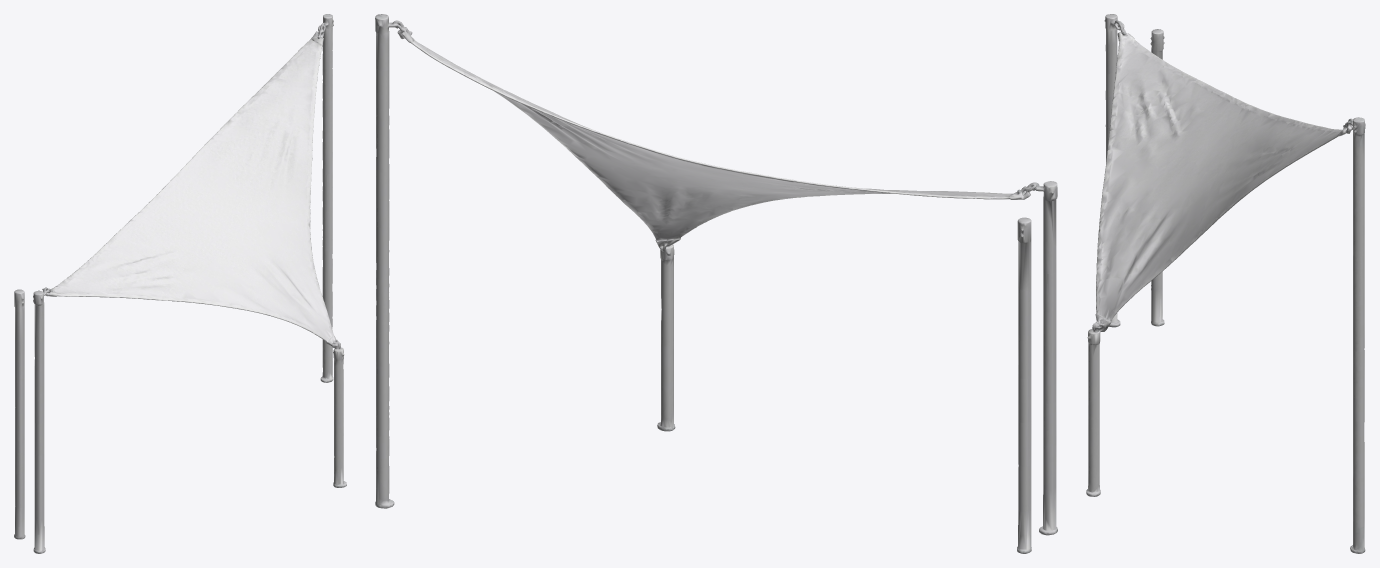
The model's file is sail1.glb.
3 renders of one model, left to right at view 1: azimuth 30°, elevation 25°; view 2: azimuth 150°, elevation 25°; view 3: azimuth 270°, elevation 25°, orthographic. The views are drawn at different scales.
Visible parts, largest first — view 1: mesh_node; view 2: mesh_node; view 3: mesh_node.
Part boxes in pixels (left/top/right/bottom): mesh_node: left=14, top=14, right=346, bottom=553; mesh_node: left=375, top=14, right=1057, bottom=553; mesh_node: left=1086, top=14, right=1365, bottom=553.
Bounding box in the file's own units: 1.9 × 1.64 × 0.9648.
1 material, 1 textured.
